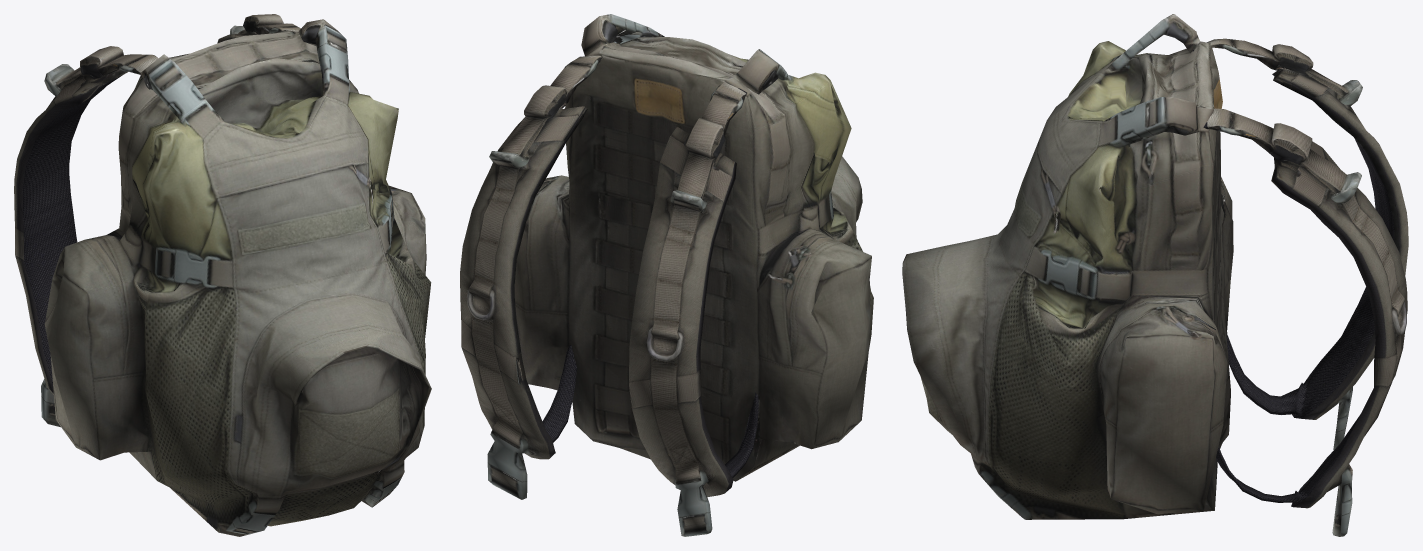
Rendered from tactical_backpack.glb.
3 renders of one model, left to right at view 1: azimuth 30°, elevation 25°; view 2: azimuth 150°, elevation 25°; view 3: azimuth 270°, elevation 25°, orthographic. The views are drawn at different scales.
Parts seen in each view (by area): view 1: default645456_Material #10_0, default00112331_Material #12_0; view 2: default645456_Material #10_0, default00112331_Material #12_0; view 3: default645456_Material #10_0, default00112331_Material #12_0.
Part boxes in pixels (x1,y1,x2,y2): default645456_Material #10_0: (44,19,431,536); default00112331_Material #12_0: (14,14,300,427); default645456_Material #10_0: (514,14,873,481); default00112331_Material #12_0: (460,55,758,536); default645456_Material #10_0: (902,14,1233,519); default00112331_Material #12_0: (1192,38,1408,536).
Size of the model in its own units: 0.5283 by 0.6061 by 0.6266.
Materials: 2 (2 with a texture image).
